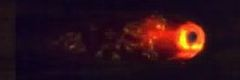keyhole: (184, 28, 201, 45)
